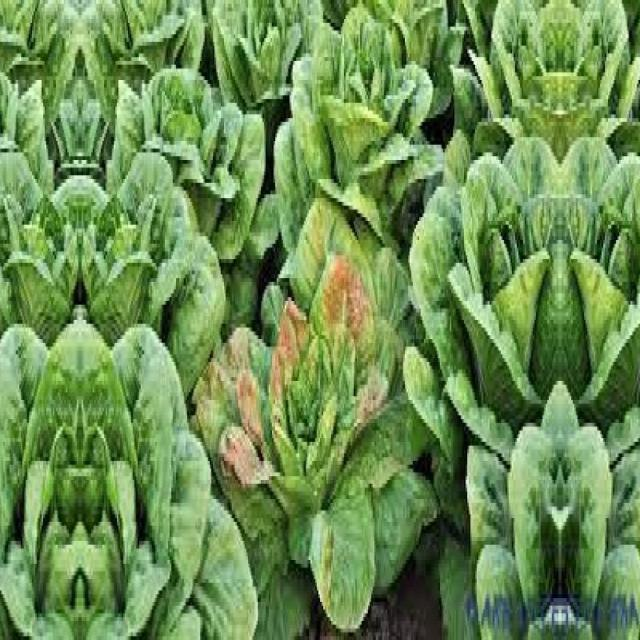healthy: (205, 261, 435, 634), (80, 322, 256, 640), (412, 134, 560, 452), (274, 8, 442, 260), (80, 148, 228, 390), (109, 67, 268, 257), (458, 388, 560, 640), (0, 322, 80, 639), (560, 134, 640, 451), (560, 388, 640, 640), (0, 148, 80, 390), (452, 0, 560, 144), (210, 0, 326, 114), (80, 0, 208, 94), (560, 0, 640, 144), (0, 67, 51, 257), (0, 0, 79, 93)
